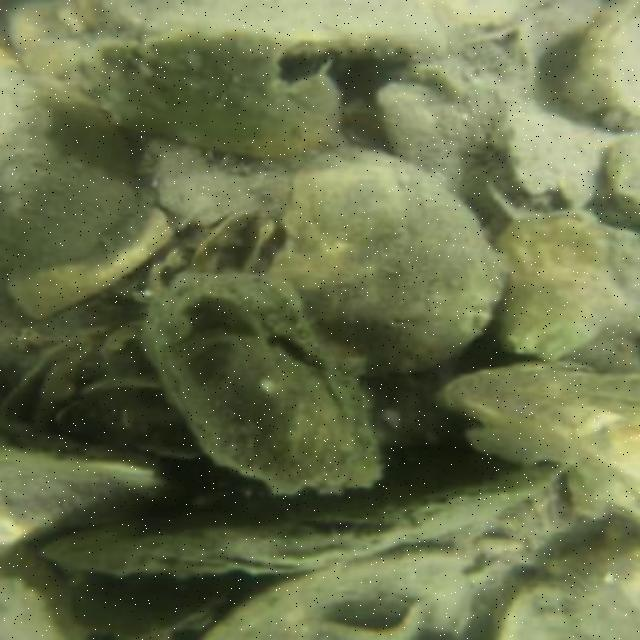Oyster-Closed: (33, 460, 573, 582), (266, 142, 510, 384), (0, 69, 139, 274), (0, 411, 191, 552), (488, 528, 635, 637)
Oyster-Open: (133, 269, 388, 500)
